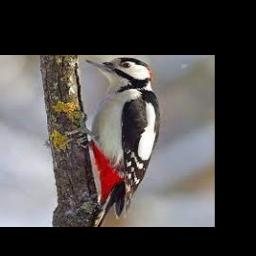Woodpecker: (71, 57, 161, 227)
